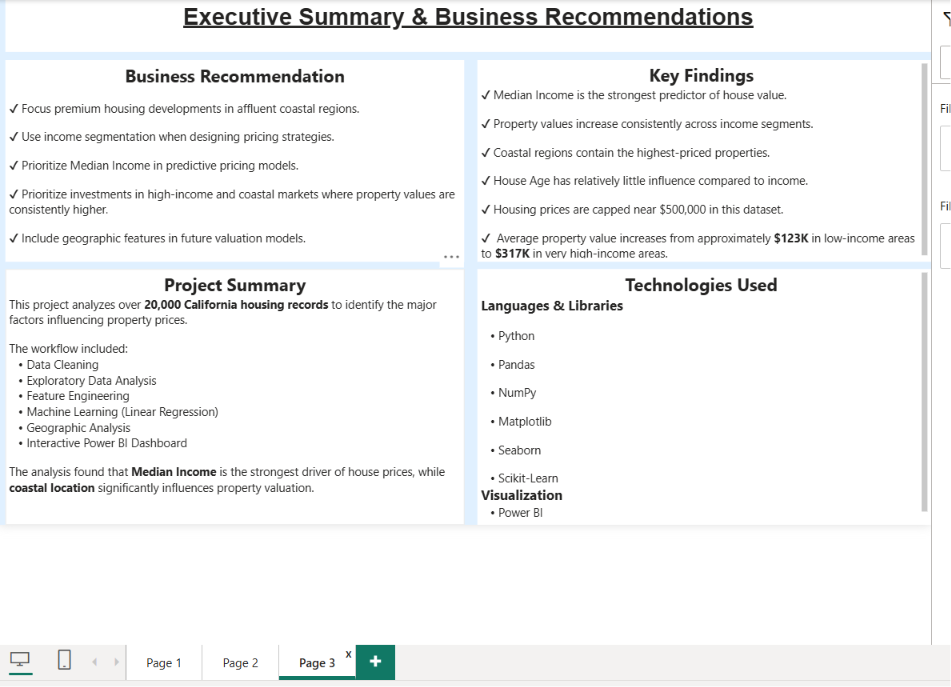

Layout of this report page (visuals, bound fields, positions):
{"tool":"powerbi","page":{"name":"Page 3","canvas":[1280,720],"ordinal":2},"visuals":[{"type":"textbox","box":[9.6,0,1270.7,71.4],"z":0},{"type":"textbox","box":[9.6,82.3,629.8,277.2],"z":1000},{"type":"textbox","box":[657.3,82.3,623,277.2],"z":2000},{"type":"textbox","box":[9.6,369.1,629.8,351.3],"z":3000},{"type":"textbox","box":[657.3,369.1,623,351.3],"z":3001}]}

Visuals, with their boxes on the page's 1280x720 design canvas (x1, y1, x2, y2). These are canvas units, not pixel positions in the 951x687 screenshot, which may show the page scaled, cropped or inside an application window:
textbox: {"left": 10, "top": 0, "right": 1280, "bottom": 71}
textbox: {"left": 10, "top": 82, "right": 639, "bottom": 360}
textbox: {"left": 657, "top": 82, "right": 1280, "bottom": 360}
textbox: {"left": 10, "top": 369, "right": 639, "bottom": 720}
textbox: {"left": 657, "top": 369, "right": 1280, "bottom": 720}
